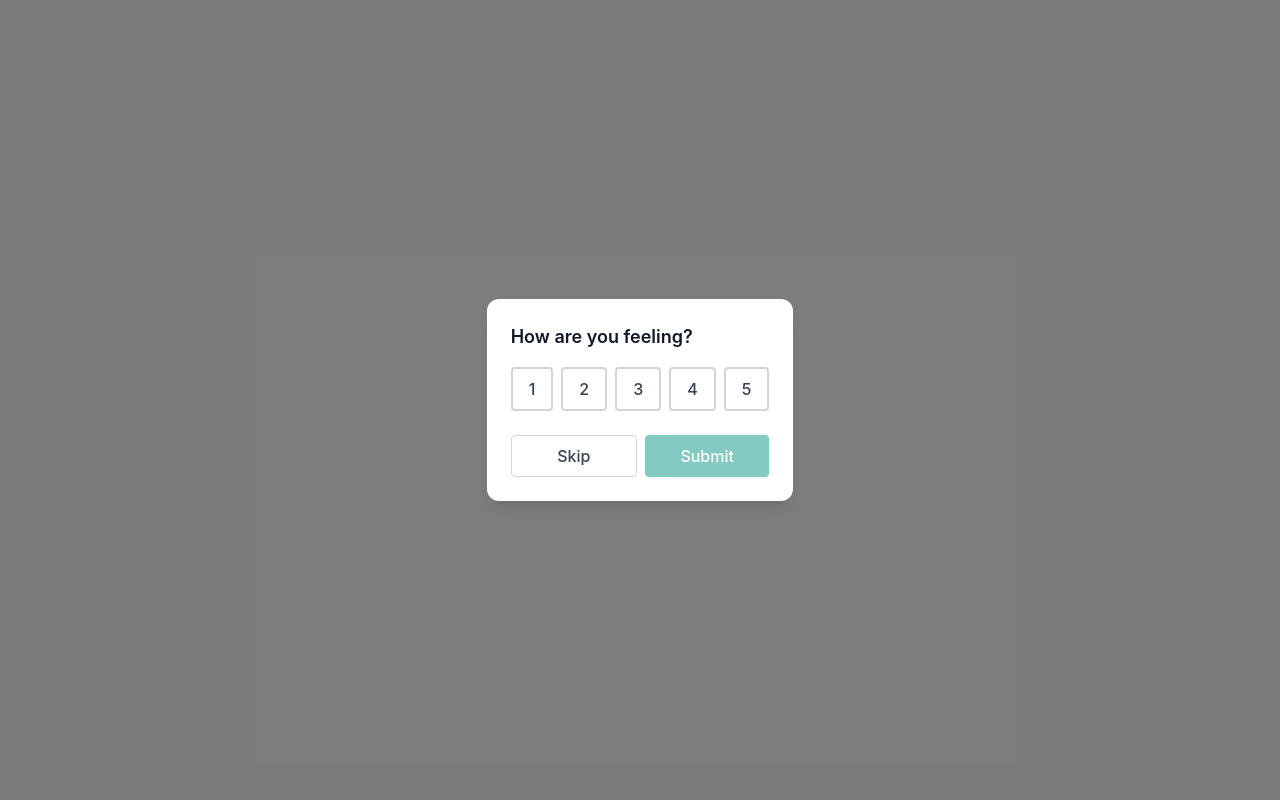
Test case: ReadinessModal › enables submit button when rating is selected
Step 1. Click the button "4" → {"x": 692, "y": 389}, box [669,367,716,411]
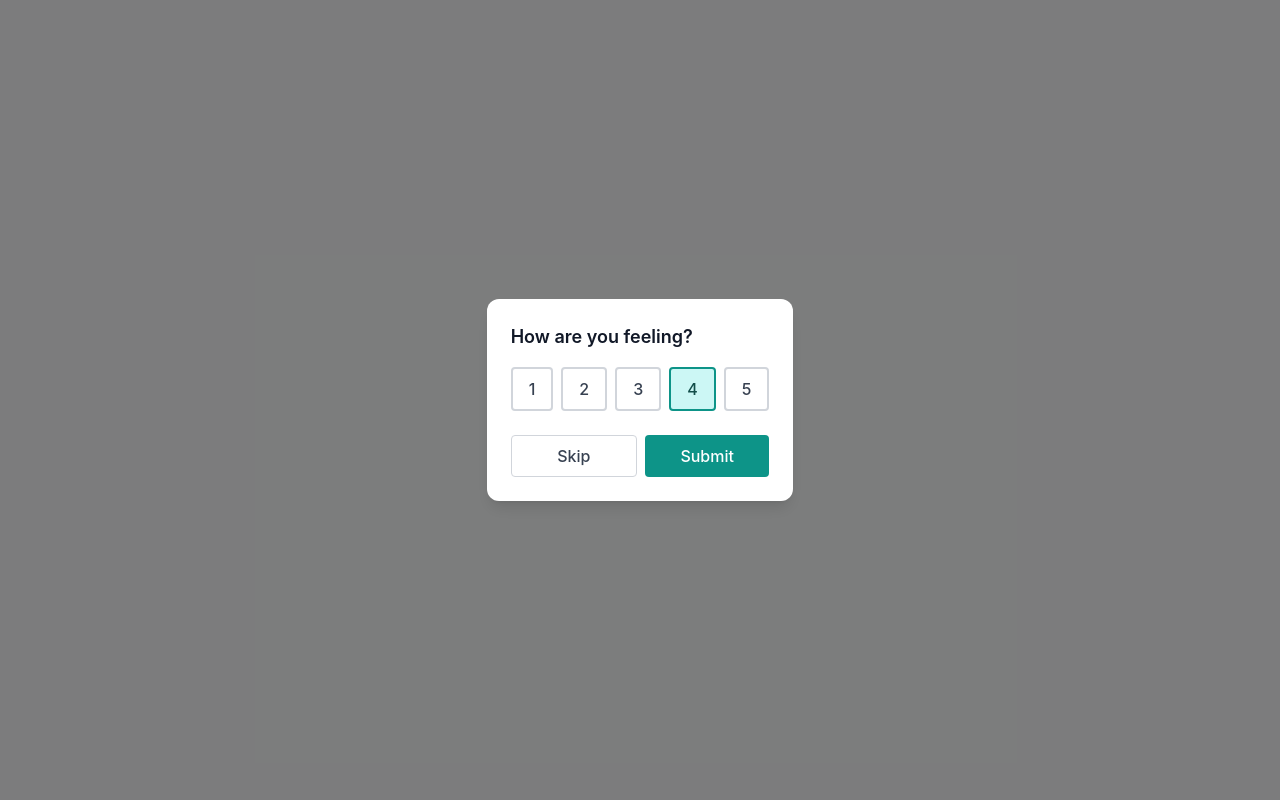
Result: the button "Submit" is enabled at [645,435,769,477]
